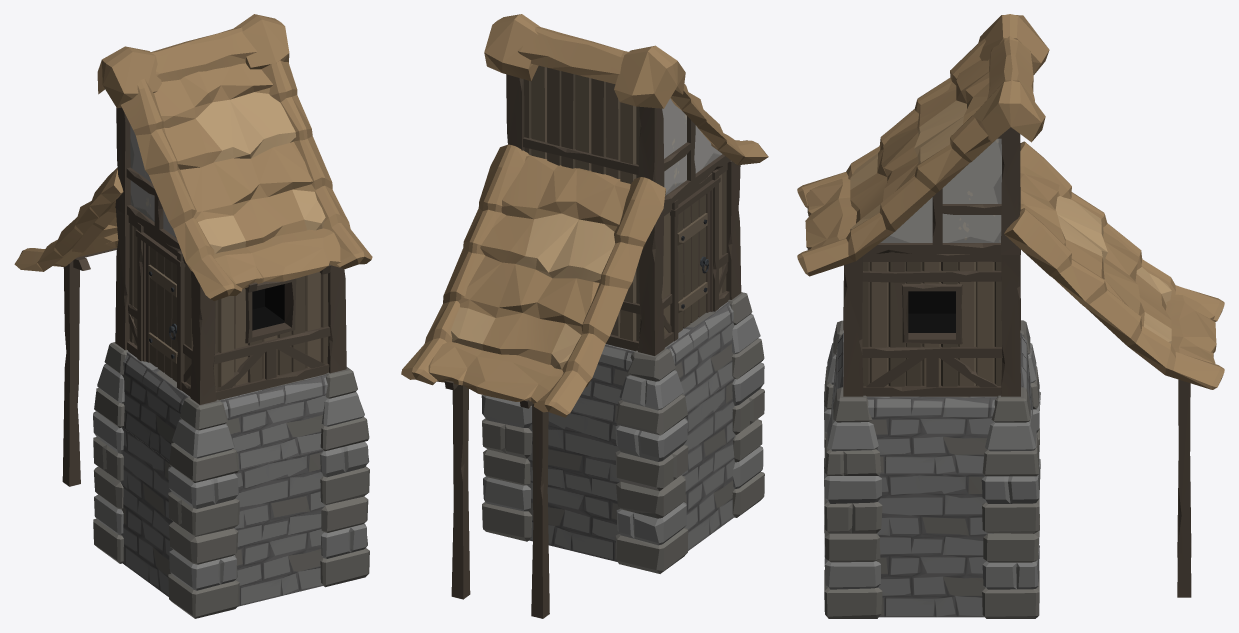
File: SM_Bld_Preset_Hut_02_Optimized.fbx
3 renders of one model, left to right at view 1: azimuth 30°, elevation 25°; view 2: azimuth 150°, elevation 25°; view 3: azimuth 270°, elevation 25°, orthographic. The views are drawn at different scales.
Parts seen in each view (by area): view 1: SM_Bld_Preset_Hut_02_Optimized; view 2: SM_Bld_Preset_Hut_02_Optimized; view 3: SM_Bld_Preset_Hut_02_Optimized.
Part boxes in pixels (x1,y1,x2,y2): SM_Bld_Preset_Hut_02_Optimized: [14, 14, 372, 618]; SM_Bld_Preset_Hut_02_Optimized: [401, 14, 768, 618]; SM_Bld_Preset_Hut_02_Optimized: [797, 14, 1224, 618].
Size of the model in its own units: 349 by 924 by 678.
